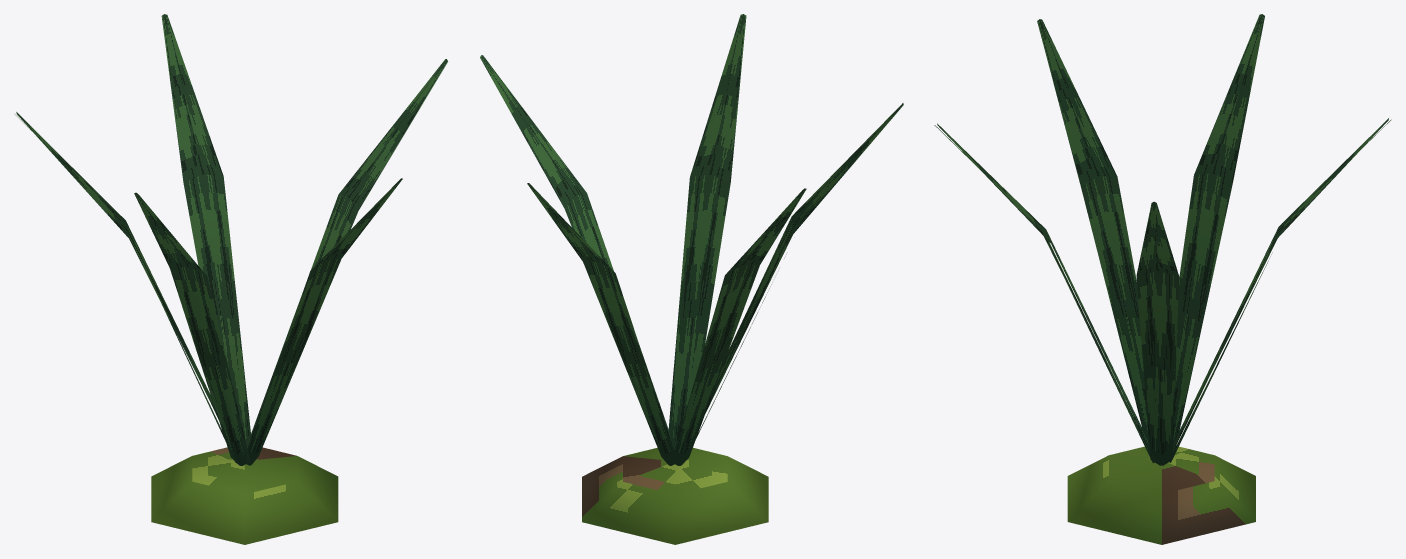
File: wild.fern__spray.glb
3 views of the same model, side by side, from view 1: azimuth 30°, elevation 25°; view 2: azimuth 150°, elevation 25°; view 3: azimuth 270°, elevation 25° (orthographic).
Visible parts, largest first — view 1: kit_shell_fronds, kit_mound; view 2: kit_shell_fronds, kit_mound; view 3: kit_shell_fronds, kit_mound.
Part boxes in pixels (x1,y1,x2,y2): kit_shell_fronds: (15,14,447,465); kit_mound: (151,447,338,544); kit_shell_fronds: (480,14,903,465); kit_mound: (582,447,768,544); kit_shell_fronds: (934,14,1391,465); kit_mound: (1067,446,1255,544).
Bounding box in the file's own units: 1.56 × 1.55 × 1.62.
2 materials, 2 textured.
